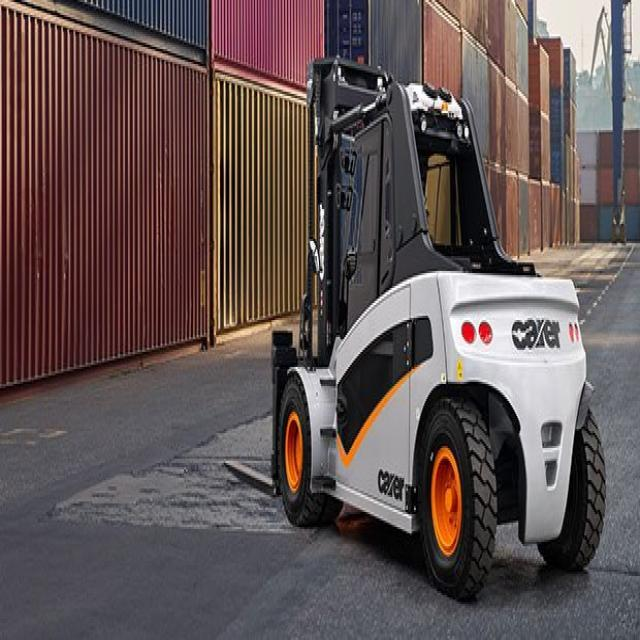forklift: (262, 31, 608, 611)
